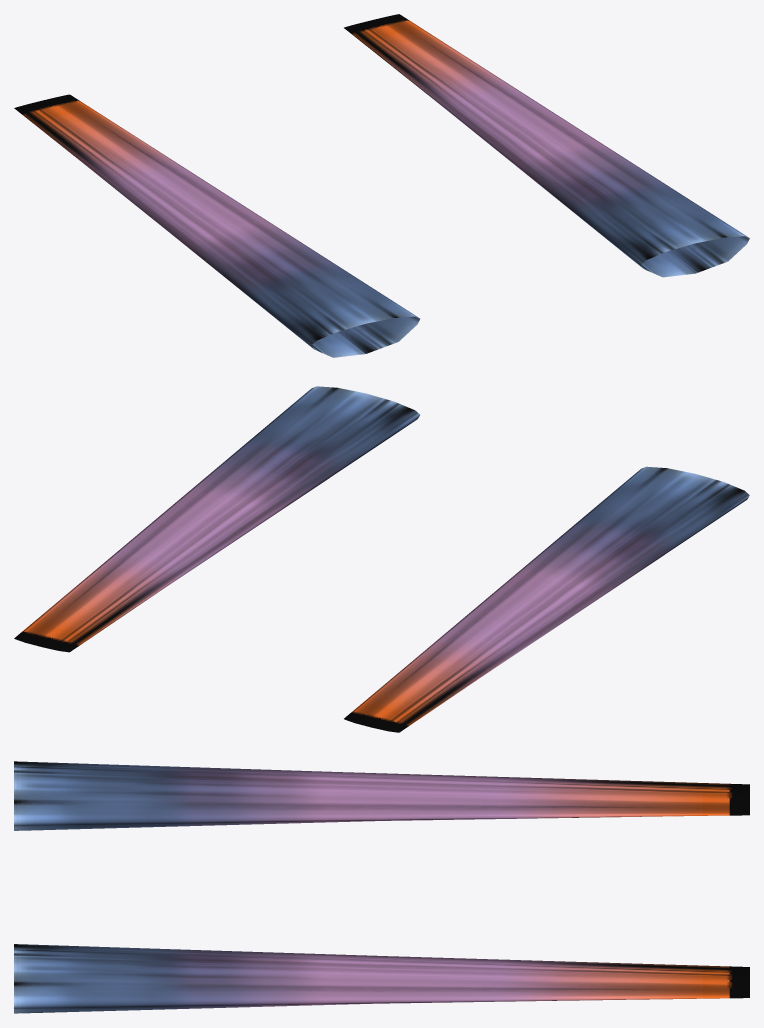
The model's file is ARKIII_BURN.fbx.
3 renders of one model, top to bottom at view 1: azimuth 30°, elevation 25°; view 2: azimuth 150°, elevation 25°; view 3: azimuth 270°, elevation 25°, orthographic. The views are drawn at different scales.
Visible parts, largest first — view 1: ARKIII_BURN; view 2: ARKIII_BURN; view 3: ARKIII_BURN.
Part boxes in pixels (x1=…): ARKIII_BURN: x1=14, y1=14, x2=749, y2=357; ARKIII_BURN: x1=14, y1=386, x2=749, y2=732; ARKIII_BURN: x1=14, y1=761, x2=749, y2=1013.
Size of the model in its own units: 78.16 by 5.17 by 100.
1 material, 1 textured.
